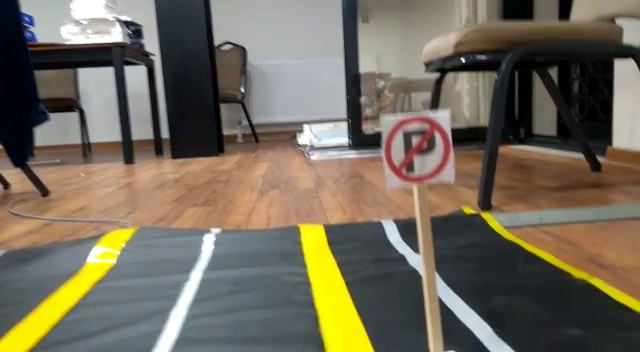park_yapilmaz: (380, 114, 452, 184)
